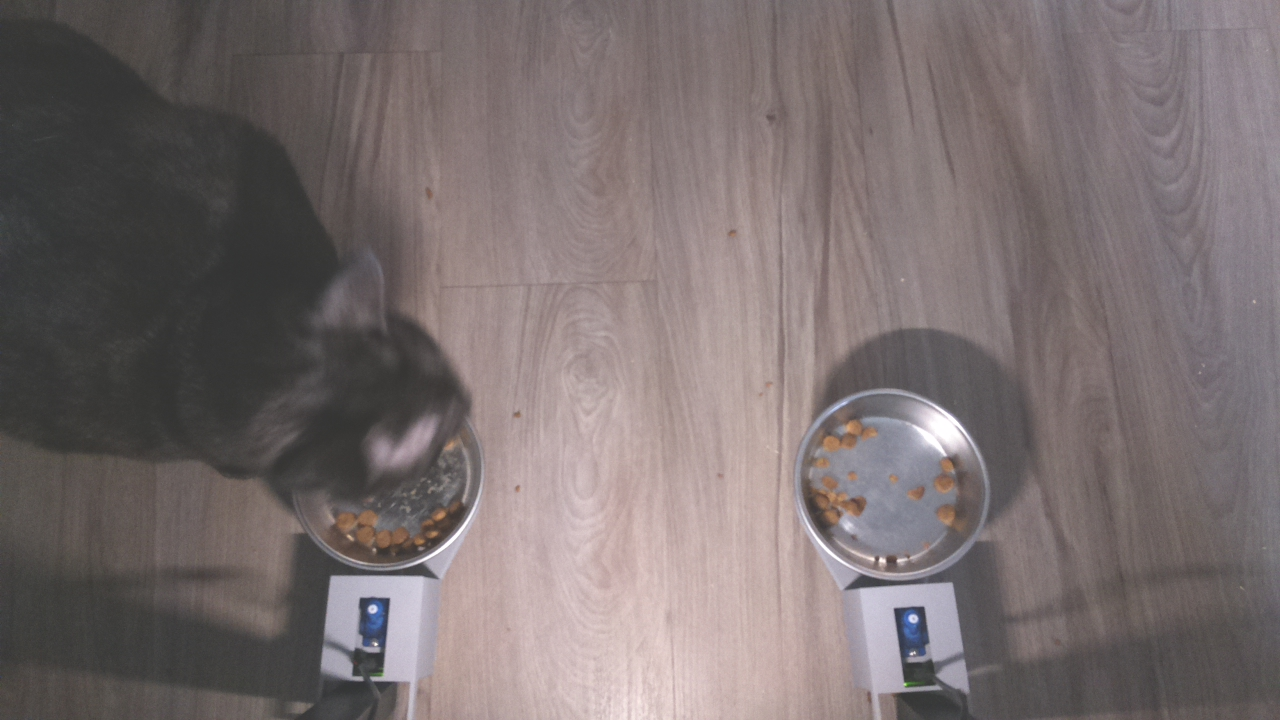open_bowl: (791, 383, 993, 585)
saki_eating: (234, 243, 495, 578)
